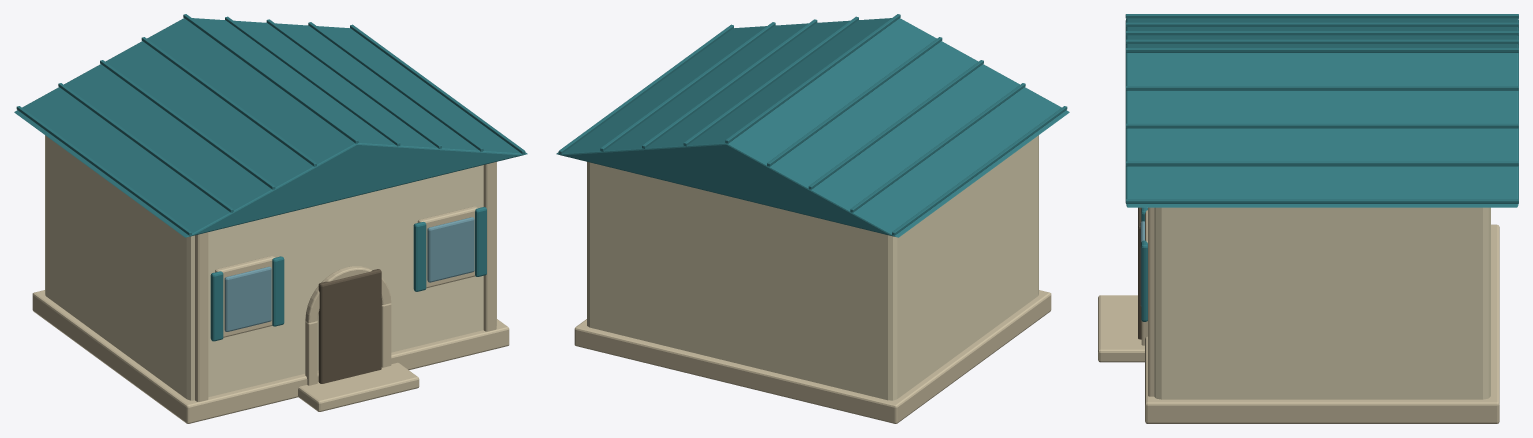
File: villa.glb
The picture shows the model from 3 angles, left to right: view 1: azimuth 30°, elevation 25°; view 2: azimuth 150°, elevation 25°; view 3: azimuth 270°, elevation 25°; orthographic projection. The views are drawn at different scales.
Visible parts, largest first — view 1: Geometry_TealTile, Geometry_Stucco, Geometry_Sandstone, Geometry_Timber, Geometry_Window; view 2: Geometry_Stucco, Geometry_TealTile, Geometry_Sandstone; view 3: Geometry_TealTile, Geometry_Stucco, Geometry_Sandstone, Geometry_Timber.
Boxes of the visible parts, x1,y1,x2,y2 form: Geometry_TealTile: (14,14,527,341); Geometry_Stucco: (45,135,496,400); Geometry_Sandstone: (32,162,509,423); Geometry_Timber: (318,269,381,383); Geometry_Window: (224,217,474,331); Geometry_Stucco: (587,135,1038,400); Geometry_TealTile: (556,14,1069,237); Geometry_Sandstone: (574,290,1051,423); Geometry_TealTile: (1125,14,1518,321); Geometry_Stucco: (1154,207,1490,399); Geometry_Sandstone: (1098,207,1499,423); Geometry_Timber: (1138,207,1141,339).
Bounding box in the file's own units: 6.42 × 4.5 × 5.99.
